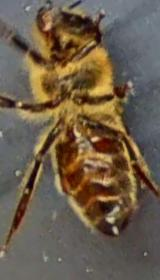varroa_mite: (73, 126, 132, 157)
